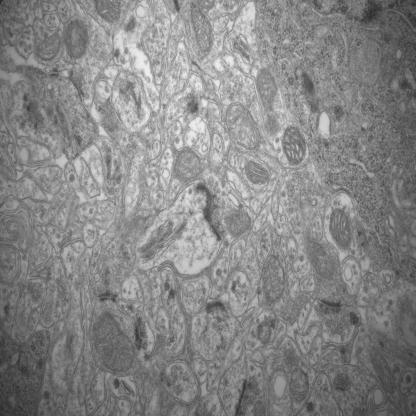mitochondria: (91, 311, 138, 374), (222, 100, 263, 152), (364, 344, 398, 392), (259, 252, 287, 306), (254, 63, 280, 115), (62, 18, 91, 63), (327, 206, 354, 252), (190, 0, 213, 54), (281, 121, 307, 168), (174, 145, 204, 182), (35, 30, 62, 62), (287, 362, 309, 401), (243, 157, 271, 187), (225, 208, 253, 237)
